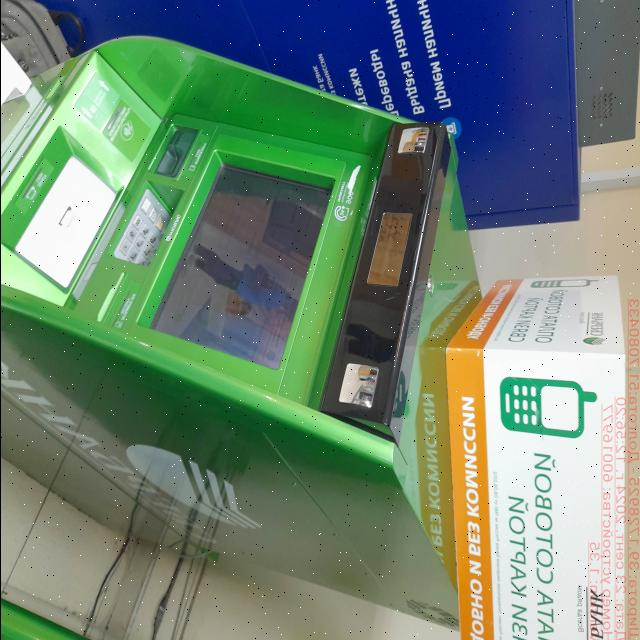bank: (0, 32, 469, 619)
